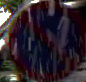No Stopping: (5, 0, 84, 81)
